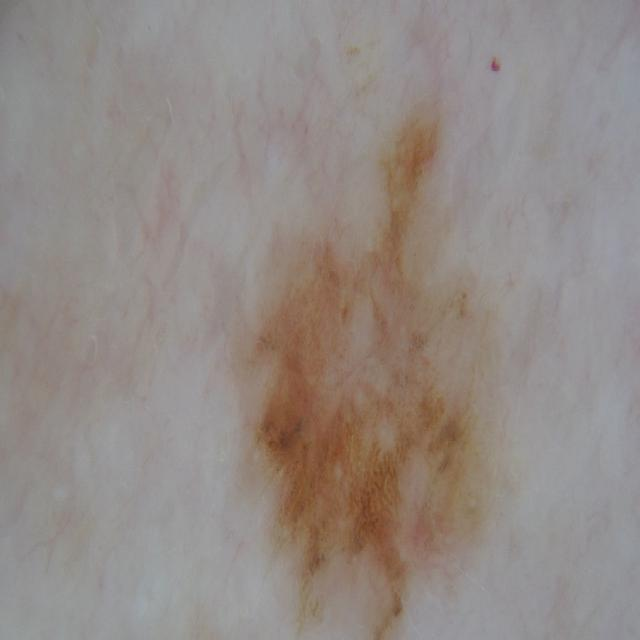Keratosis: (215, 85, 536, 640)
